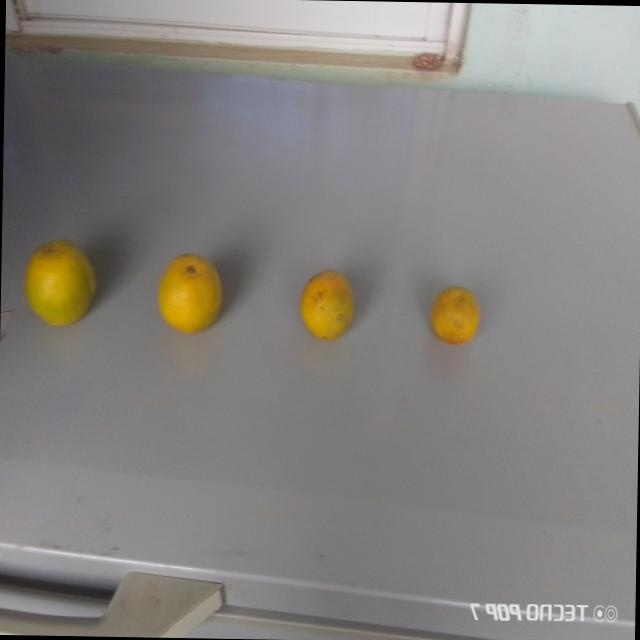agrume: (22, 236, 102, 333), (151, 249, 229, 339), (294, 266, 363, 350), (427, 281, 485, 355)
